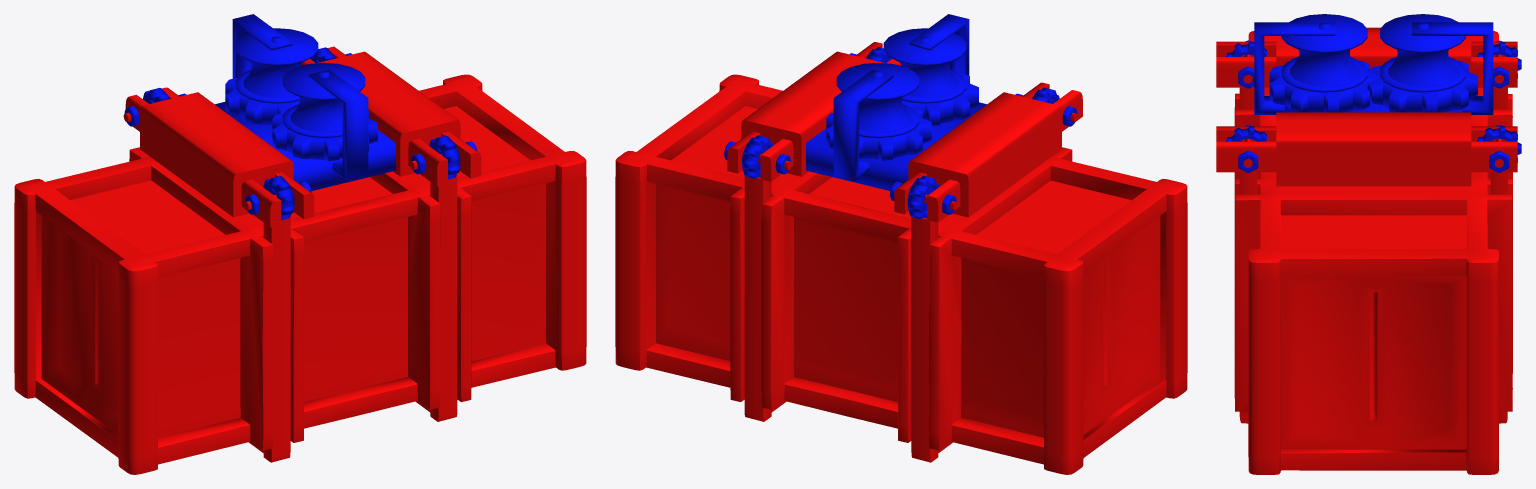
Rendered from main_Stage1Train001_LOD1.fbx.
3 views of the same model, side by side, from view 1: azimuth 30°, elevation 25°; view 2: azimuth 150°, elevation 25°; view 3: azimuth 270°, elevation 25° (orthographic). The views are drawn at different scales.
Visible parts, largest first — view 1: main_Stage1TrainBody002, main_Stage1TrainWheel004, main_Stage1TrainWheel003; view 2: main_Stage1TrainBody002, main_Stage1TrainWheel003, main_Stage1TrainWheel004; view 3: main_Stage1TrainBody002, main_Stage1TrainWheel003, main_Stage1TrainWheel004.
Boxes of the visible parts, x1,y1,x2,y2 form: main_Stage1TrainBody002: (14,14,586,474); main_Stage1TrainWheel004: (272,62,377,161); main_Stage1TrainWheel003: (225,28,318,124); main_Stage1TrainBody002: (615,14,1187,474); main_Stage1TrainWheel003: (826,62,931,160); main_Stage1TrainWheel004: (883,28,978,125); main_Stage1TrainBody002: (1216,22,1521,474); main_Stage1TrainWheel003: (1368,14,1477,112); main_Stage1TrainWheel004: (1269,14,1377,112).
Bounding box in the file's own units: 12.64 × 8.91 × 7.02.
